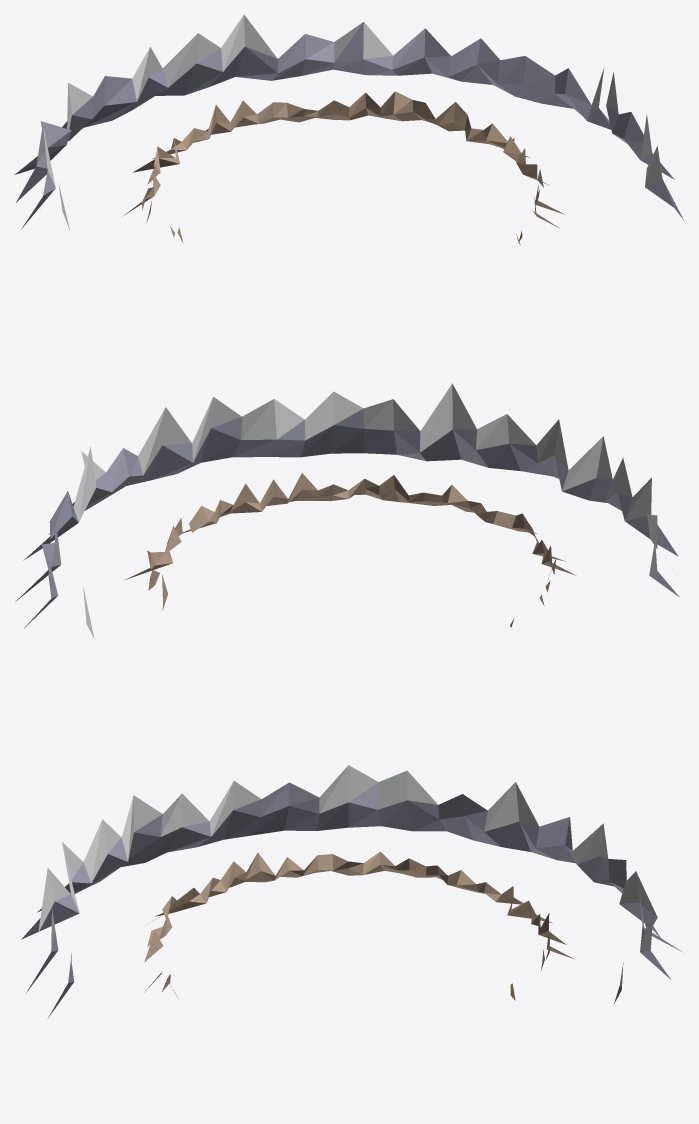
File: env_mountains.glb
3 renders of one model, top to bottom at view 1: azimuth 30°, elevation 25°; view 2: azimuth 150°, elevation 25°; view 3: azimuth 270°, elevation 25°, orthographic.
Visible parts, largest first — view 1: mountains; view 2: mountains; view 3: mountains.
Part boxes in pixels (x1,y1,x2,y2): mountains: (14,14,684,245); mountains: (15,383,679,638); mountains: (21,765,681,1017).
Size of the model in its own units: 735 by 104 by 735.
